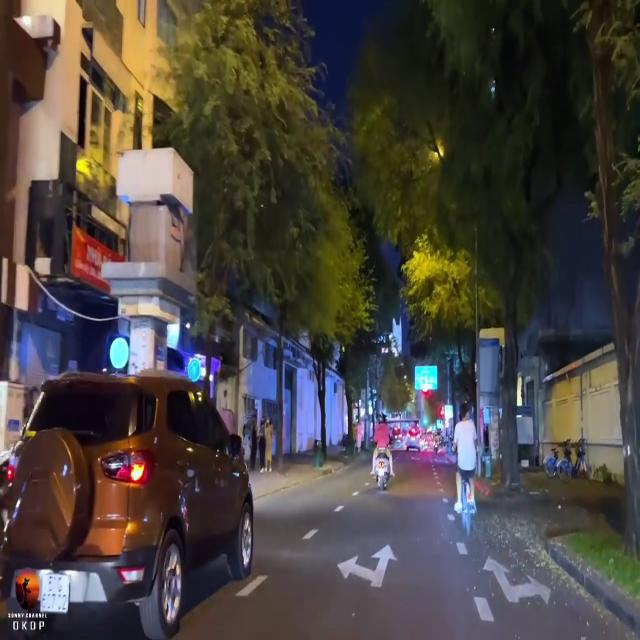bien_trang: (38, 568, 70, 611)
